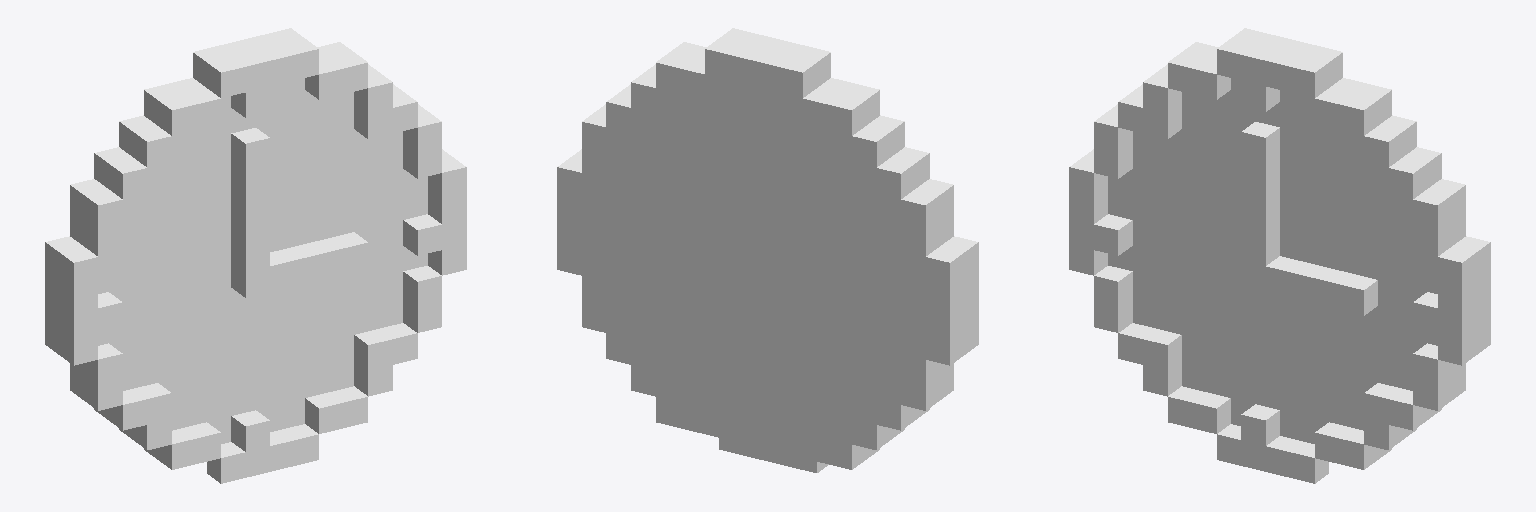
Rendered from house_heya_clock.obj.
3 renders of one model, left to right at view 1: azimuth 30°, elevation 25°; view 2: azimuth 150°, elevation 25°; view 3: azimuth 330°, elevation 25°, orthographic.
Size of the model in its own units: 16 by 16 by 2.